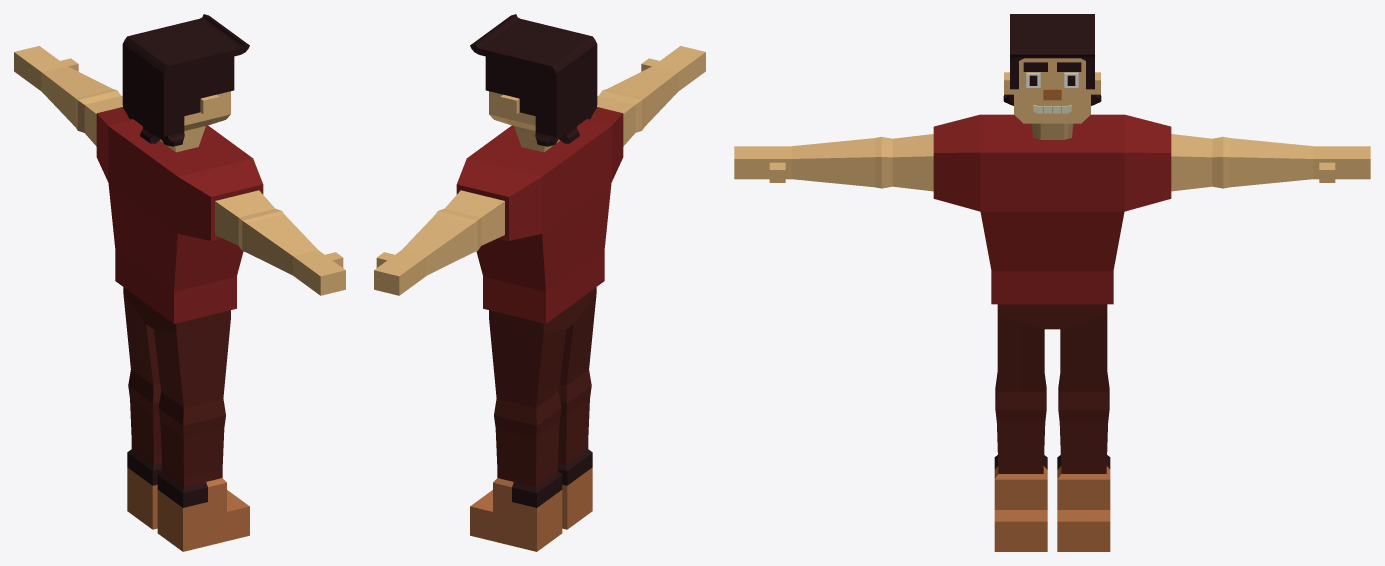
The model's file is npc1.fbx.
3 renders of one model, left to right at view 1: azimuth 30°, elevation 25°; view 2: azimuth 150°, elevation 25°; view 3: azimuth 270°, elevation 25°, orthographic. The views are drawn at different scales.
Parts seen in each view (by area): view 1: Cube.001; view 2: Cube.001; view 3: Cube.001.
Part boxes in pixels (x1,y1,x2,y2): Cube.001: (14, 14, 345, 551); Cube.001: (374, 14, 705, 551); Cube.001: (734, 14, 1370, 551).
Size of the model in its own units: 214 by 1149 by 1315.
